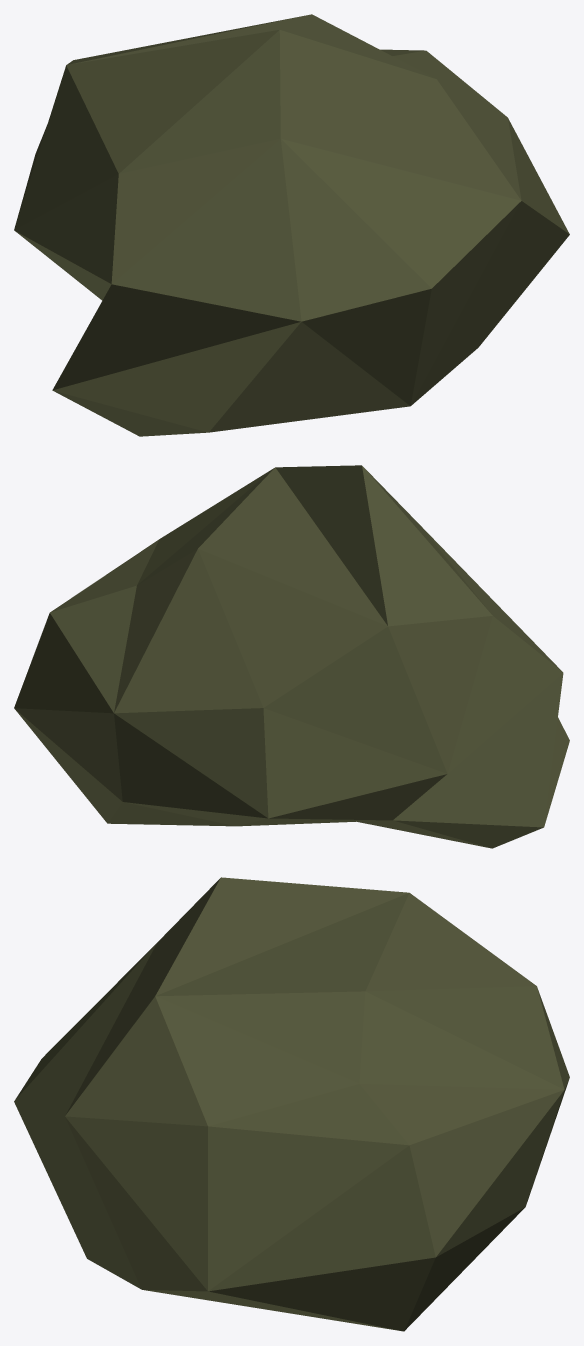
Rendered from env_bush.gltf.
3 views of the same model, one above another, from view 1: azimuth 30°, elevation 25°; view 2: azimuth 150°, elevation 25°; view 3: azimuth 270°, elevation 25° (orthographic). The views are drawn at different scales.
Visible parts, largest first — view 1: env_bush; view 2: env_bush; view 3: env_bush.
Part boxes in pixels (left/top/right/bottom): env_bush: left=14, top=14, right=569, bottom=436; env_bush: left=14, top=465, right=569, bottom=848; env_bush: left=14, top=877, right=569, bottom=1331.
Bounding box in the file's own units: 3.7 × 2.67 × 3.55.
1 material, 1 textured.
